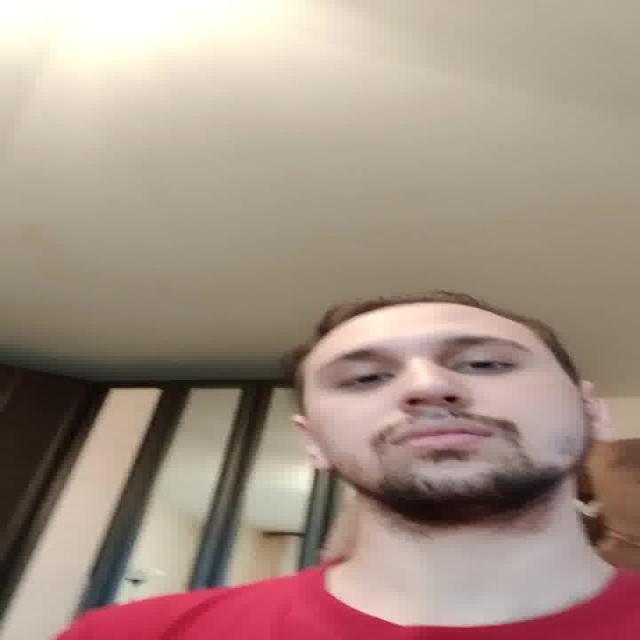earlobe: (292, 414, 336, 472), (576, 380, 615, 442)
